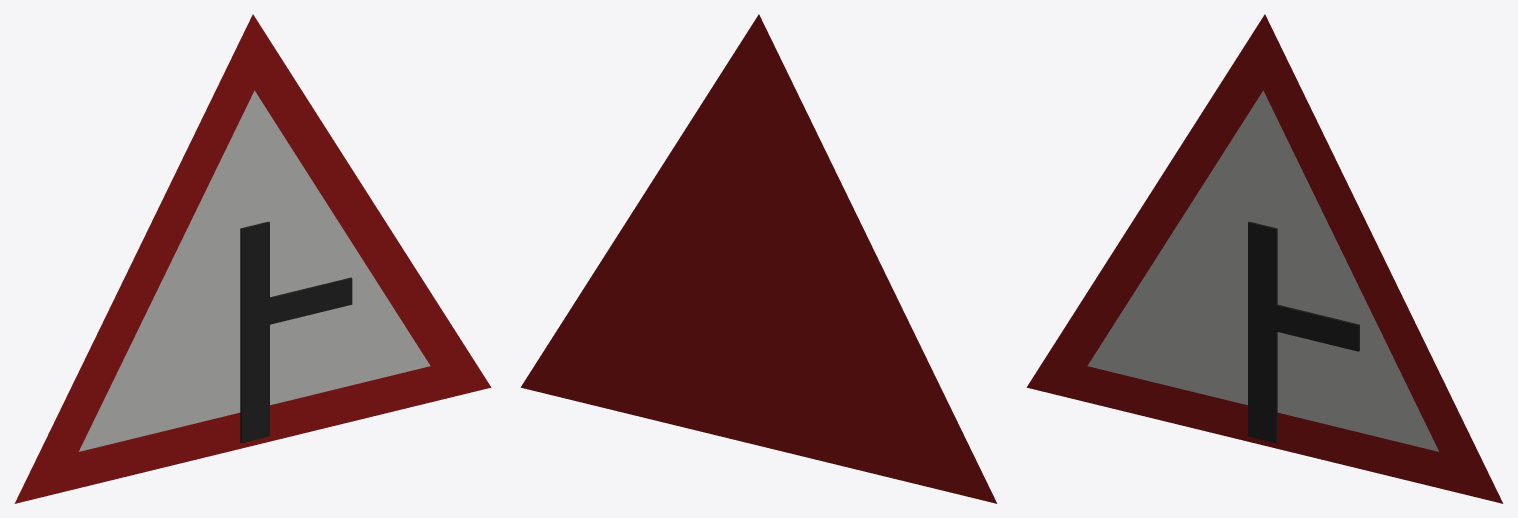
Rendered from SM_SignJunction_Wood.glb.
3 views of the same model, side by side, from view 1: azimuth 30°, elevation 25°; view 2: azimuth 150°, elevation 25°; view 3: azimuth 330°, elevation 25° (orthographic).
Visible parts, largest first — view 1: SM_SignJunction_Wood; view 2: SM_SignJunction_Wood; view 3: SM_SignJunction_Wood.
Boxes of the visible parts, left/top/right/bottom form: SM_SignJunction_Wood: left=14, top=14, right=491, bottom=503; SM_SignJunction_Wood: left=520, top=14, right=997, bottom=503; SM_SignJunction_Wood: left=1026, top=14, right=1503, bottom=503.
Bounding box in the file's own units: 0.84 × 0.7266 × 0.009.
